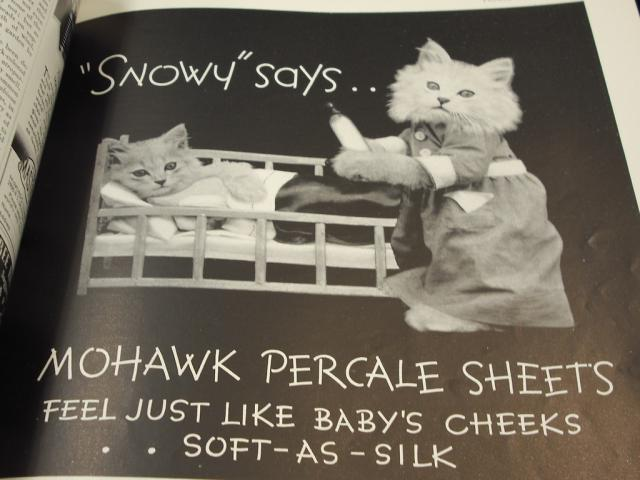Cat: (327, 36, 573, 333), (102, 122, 272, 203)
